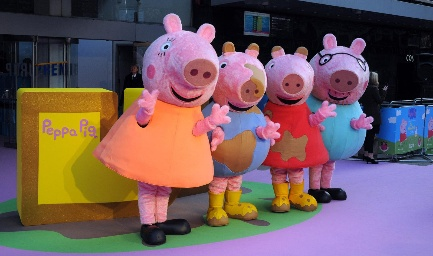Peppa: (259, 45, 324, 212)
